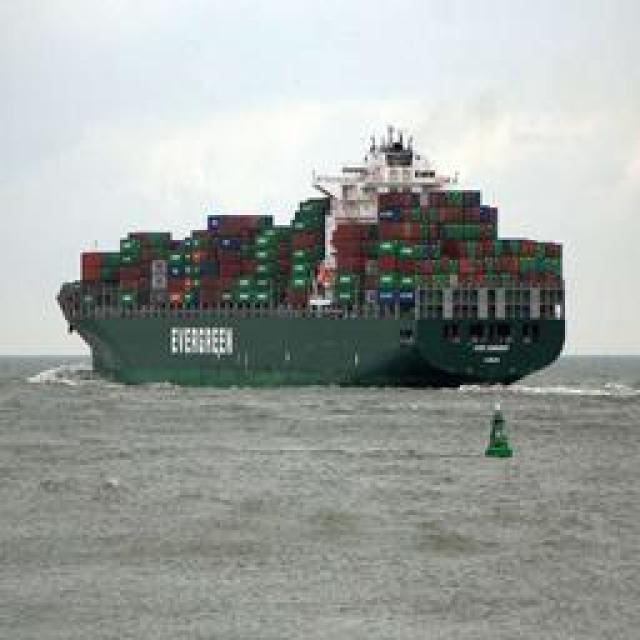ship2: (57, 138, 568, 390)
